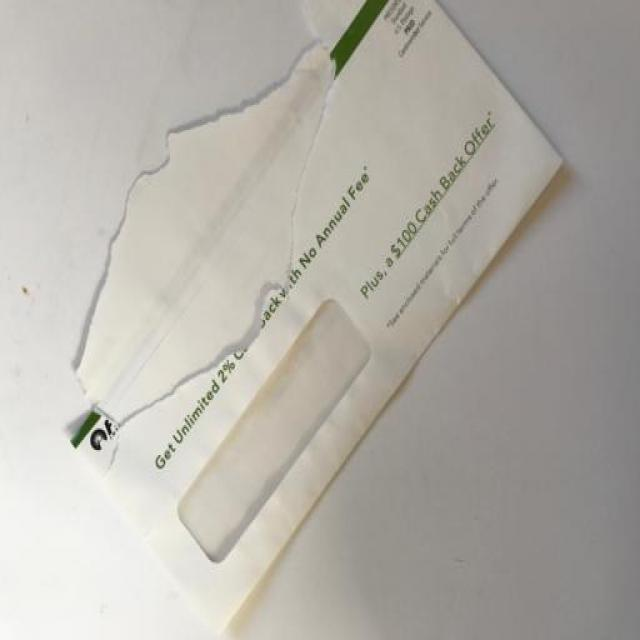paper: (50, 1, 583, 640)
